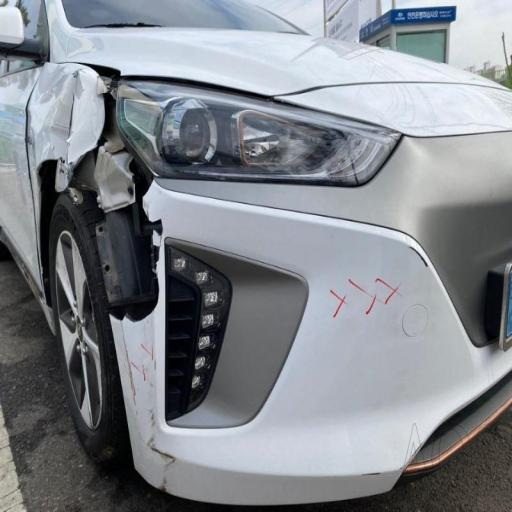broken: (32, 54, 208, 406)
